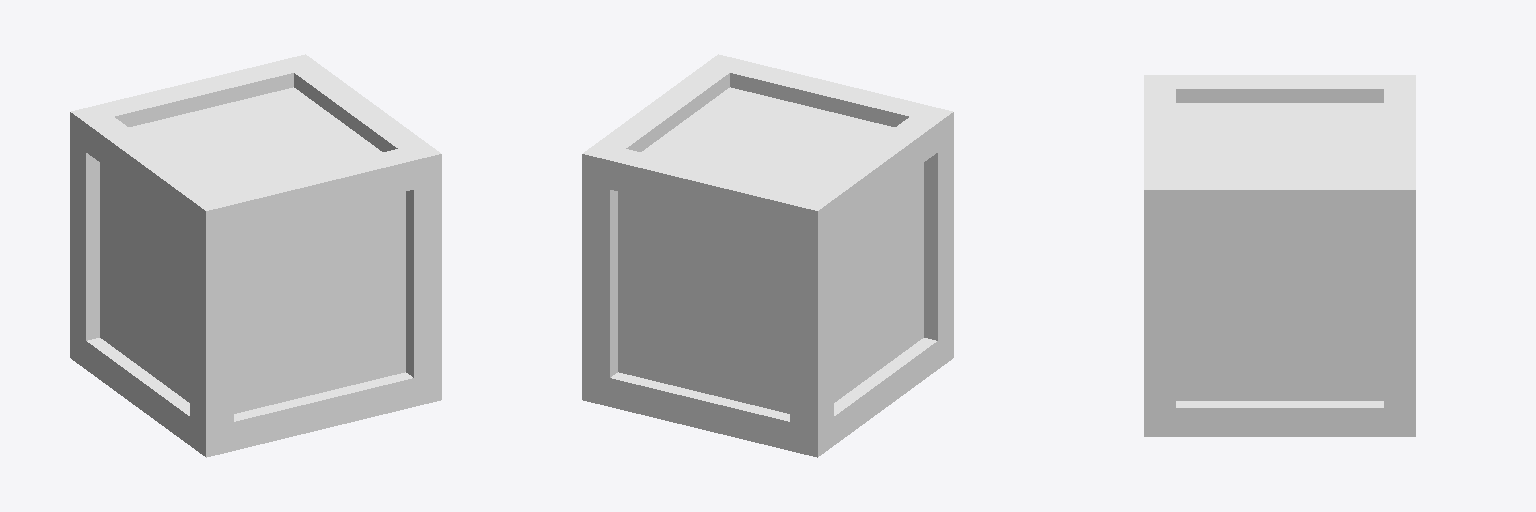
The model's file is LifeBox.obj.
3 views of the same model, side by side, from view 1: azimuth 30°, elevation 25°; view 2: azimuth 150°, elevation 25°; view 3: azimuth 270°, elevation 25° (orthographic).
Bounding box in the file's own units: 17 × 17 × 17.